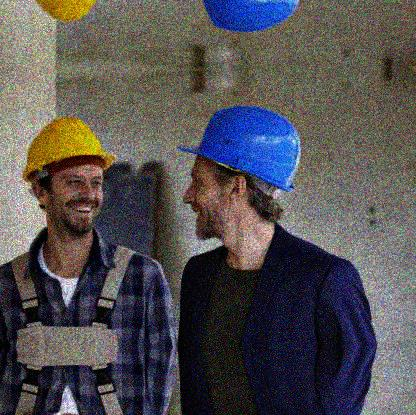helmet: (178, 107, 302, 238), (22, 117, 117, 237)
